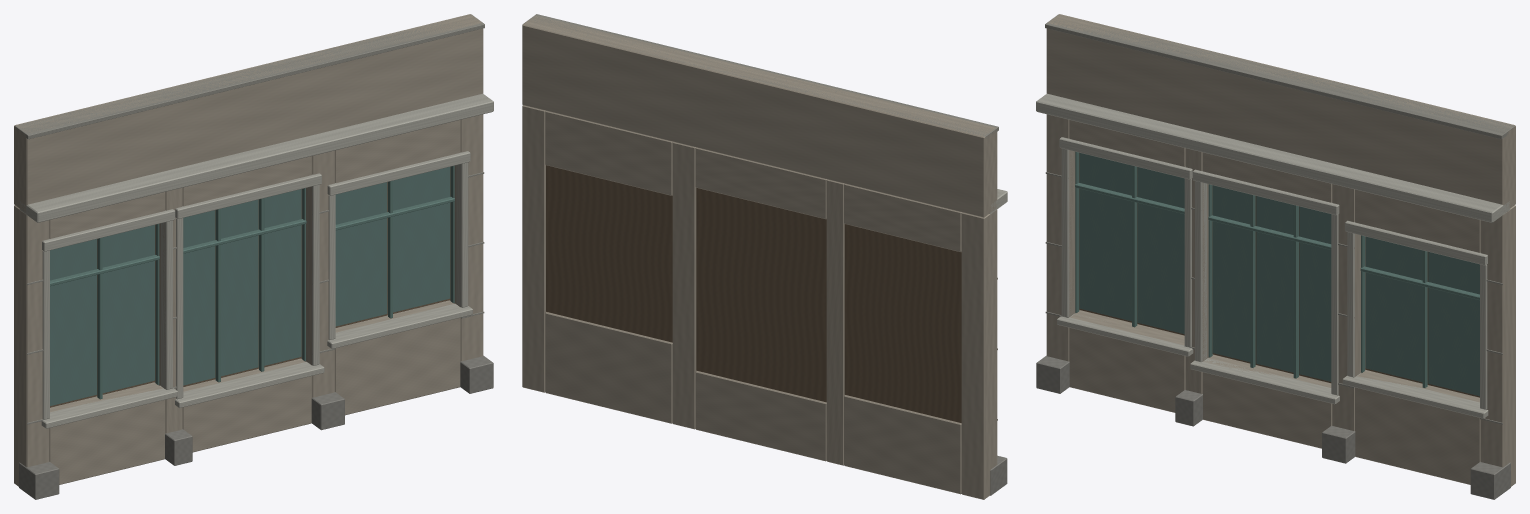
The model's file is F10_WindowFront_visual.glb.
3 views of the same model, side by side, from view 1: azimuth 30°, elevation 25°; view 2: azimuth 150°, elevation 25°; view 3: azimuth 330°, elevation 25° (orthographic).
Parts seen in each view (by area): view 1: F10_WindowFront__VIS; view 2: F10_WindowFront__VIS; view 3: F10_WindowFront__VIS.
Boxes of the visible parts, <box> form: F10_WindowFront__VIS: <box>14,14,493,499</box>; F10_WindowFront__VIS: <box>522,14,1007,499</box>; F10_WindowFront__VIS: <box>1036,14,1515,499</box>.
Bounding box in the file's own units: 24.08 × 18 × 2.16.
1 material, 1 textured.
